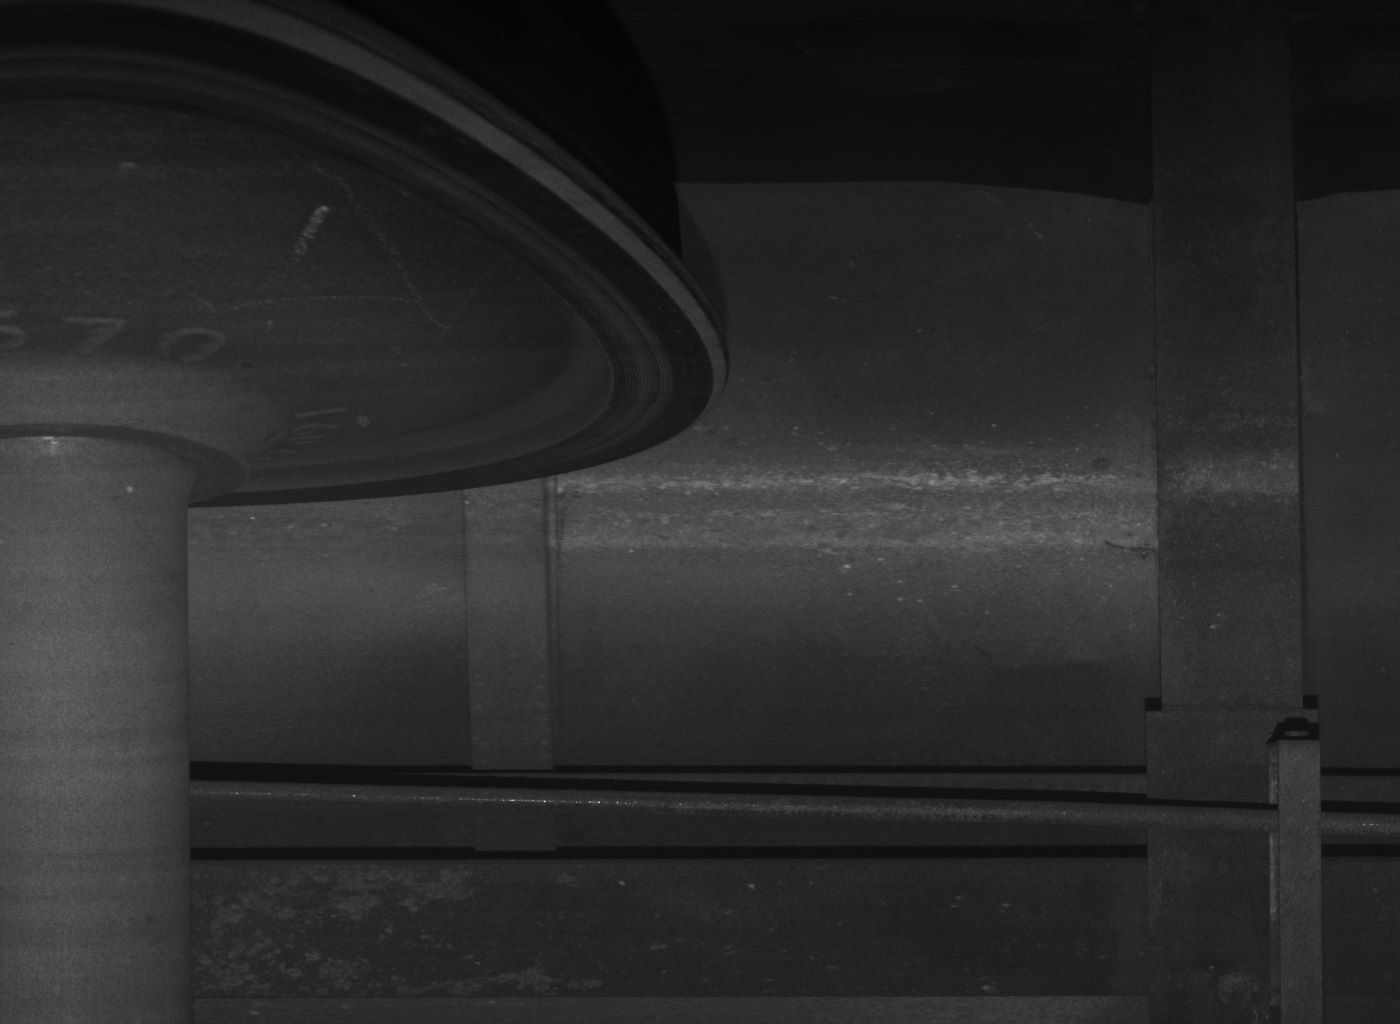normal: (1267, 729, 1322, 1024)
